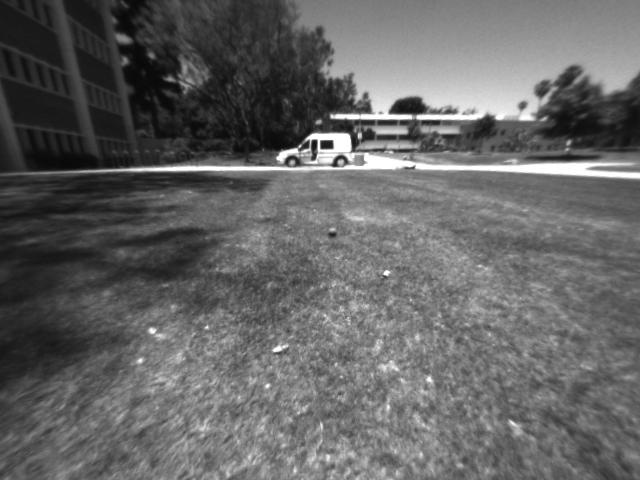dogtoy: (321, 217, 348, 245)
